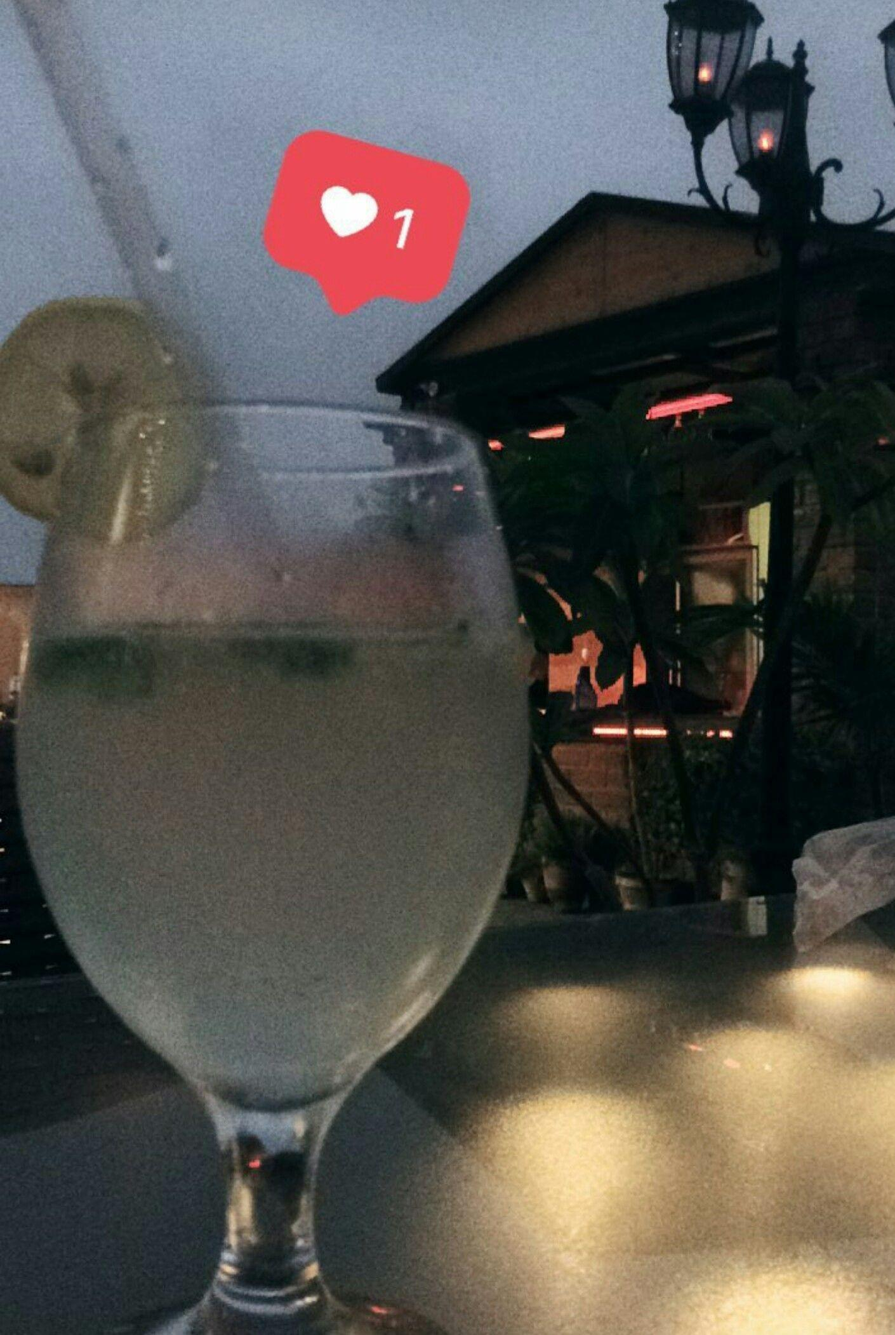glass-wine: (8, 392, 545, 1335)
